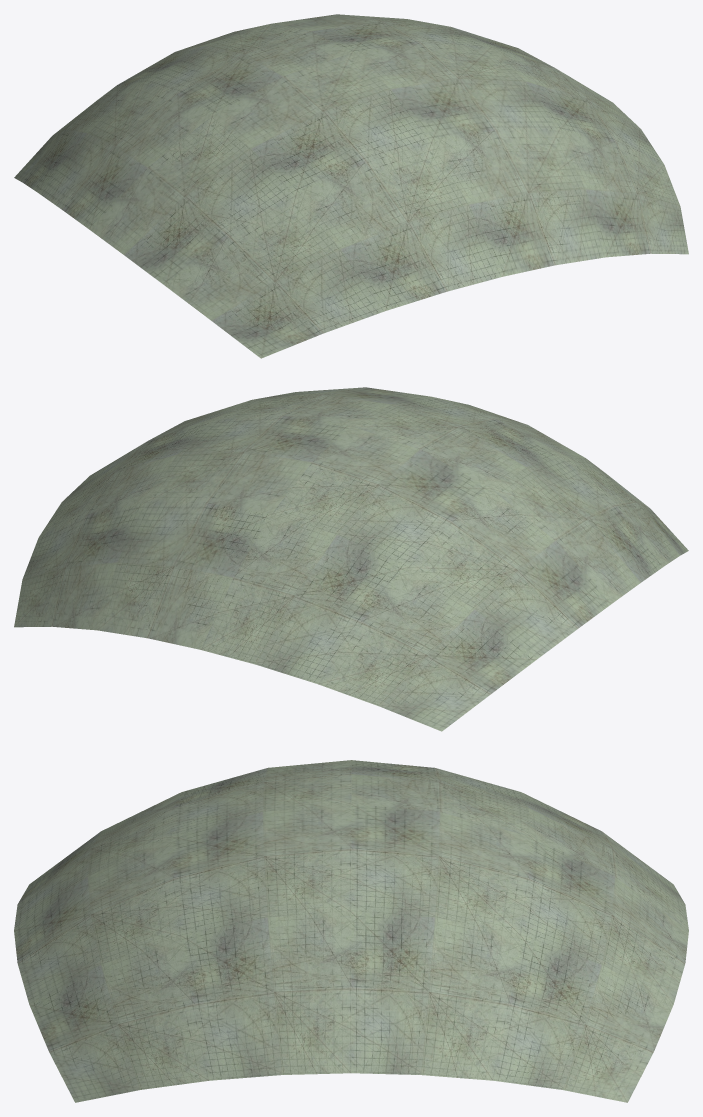
Rendered from world_map_globe.fbx.
The picture shows the model from 3 angles, top to bottom: view 1: azimuth 30°, elevation 25°; view 2: azimuth 150°, elevation 25°; view 3: azimuth 270°, elevation 25°; orthographic projection. The views are drawn at different scales.
Visible parts, largest first — view 1: polySurface15; view 2: polySurface15; view 3: polySurface15.
Boxes of the visible parts, x1,y1,x2,y2 form: polySurface15: [14, 14, 688, 358]; polySurface15: [14, 387, 688, 731]; polySurface15: [14, 760, 688, 1102].
Bounding box in the file's own units: 141 × 42.12 × 141.
Materials: 1 (1 with a texture image).
